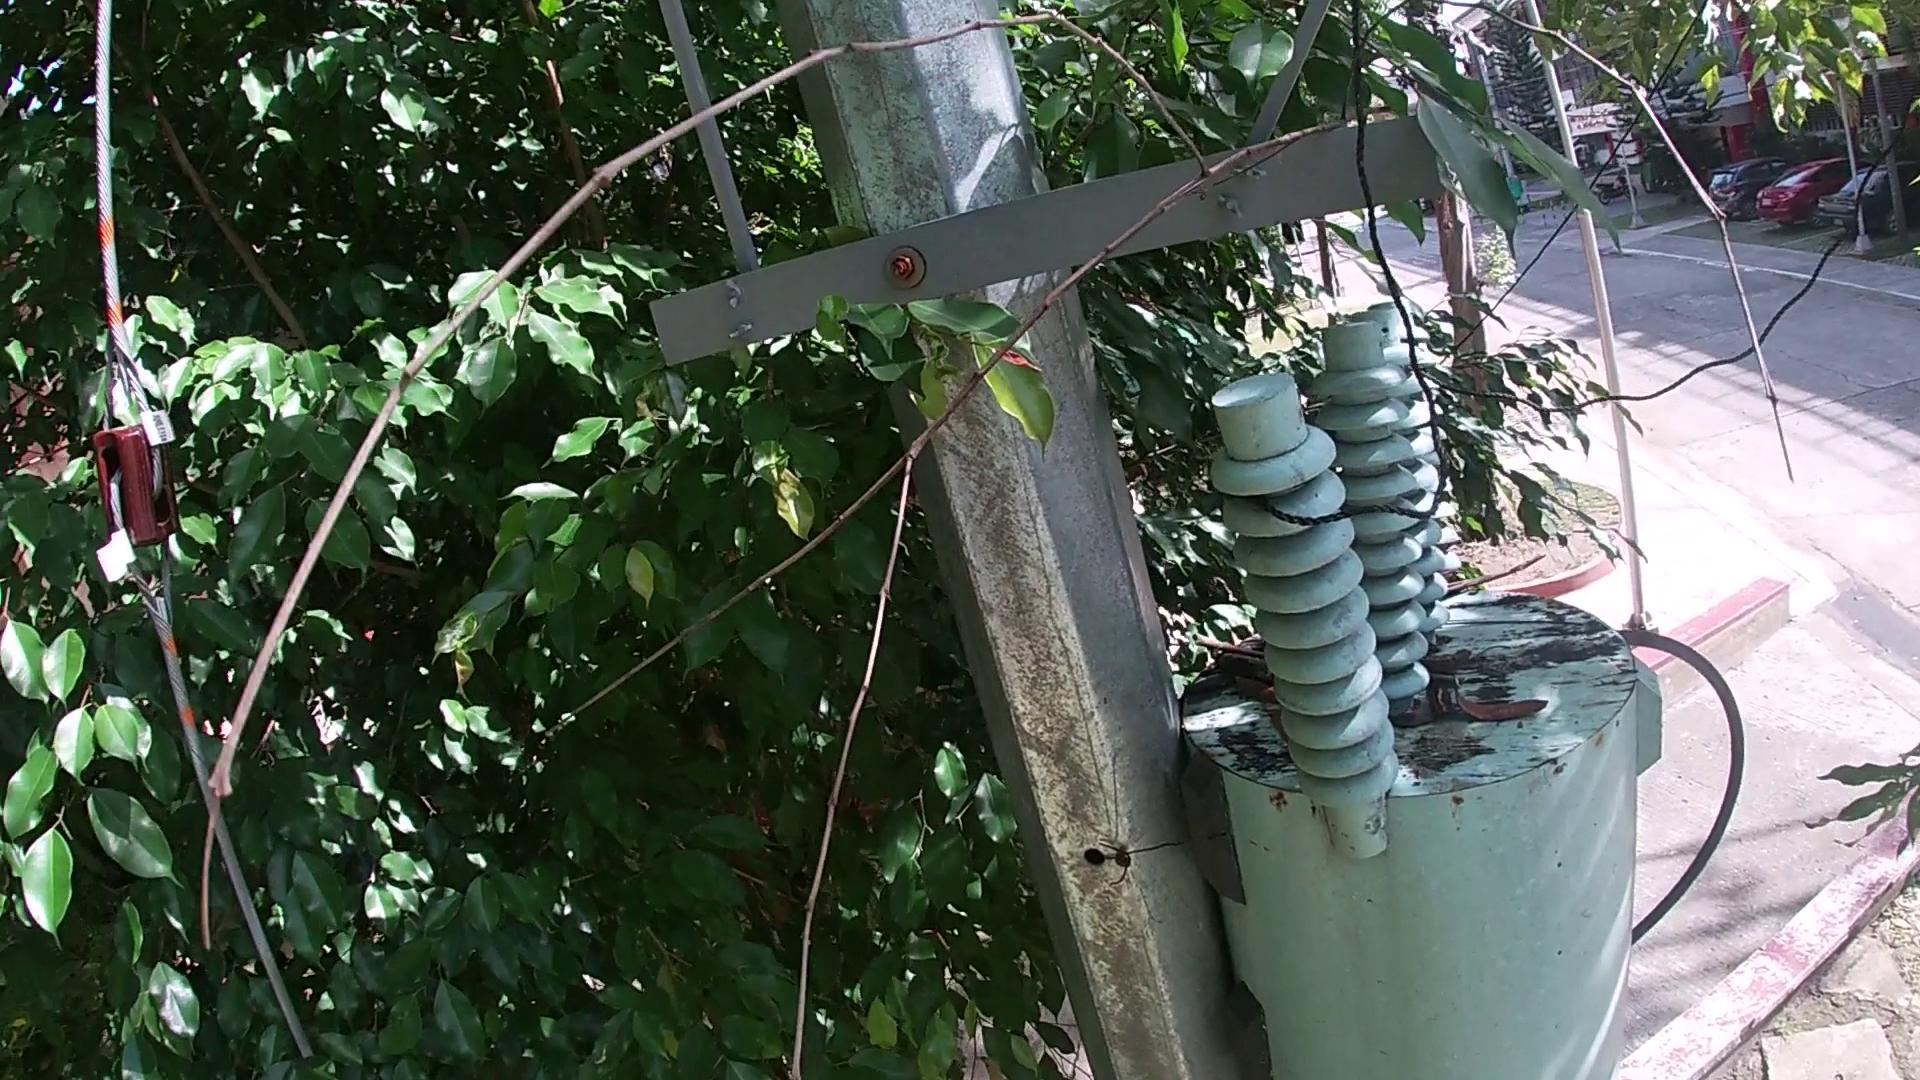leaf: (1451, 673, 1553, 727), (1228, 669, 1279, 705)
tree branch: (185, 1, 1803, 1077), (1445, 551, 1552, 600), (1193, 632, 1273, 682)
